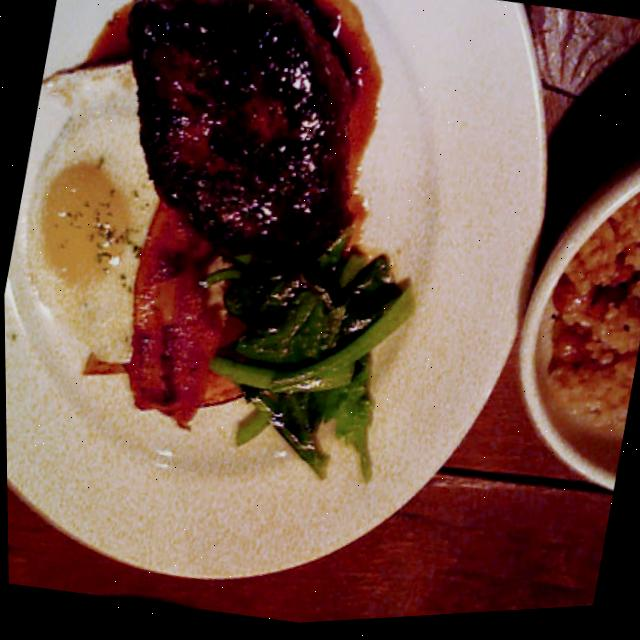牛肉菜式: (107, 0, 372, 268)
米饭主食: (505, 102, 640, 520)
蔬菜料理: (209, 229, 417, 478)
鸡蛋料理: (1, 83, 163, 367)
